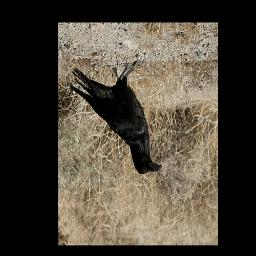Crow: (70, 61, 162, 175)
